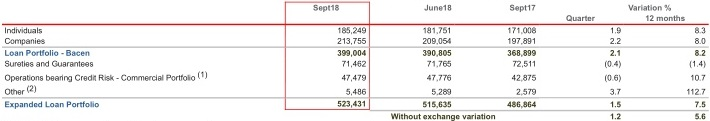column: (4, 1, 208, 121), (390, 1, 495, 120), (628, 1, 685, 121), (312, 1, 367, 120), (506, 1, 537, 121), (564, 1, 594, 121), (687, 1, 710, 121), (604, 1, 623, 121)
row: (1, 73, 710, 84), (1, 85, 710, 95), (1, 36, 710, 45), (1, 49, 710, 58), (3, 4, 710, 13), (1, 26, 710, 34), (1, 100, 710, 108), (1, 112, 710, 120), (1, 60, 710, 67), (249, 105, 254, 121)
